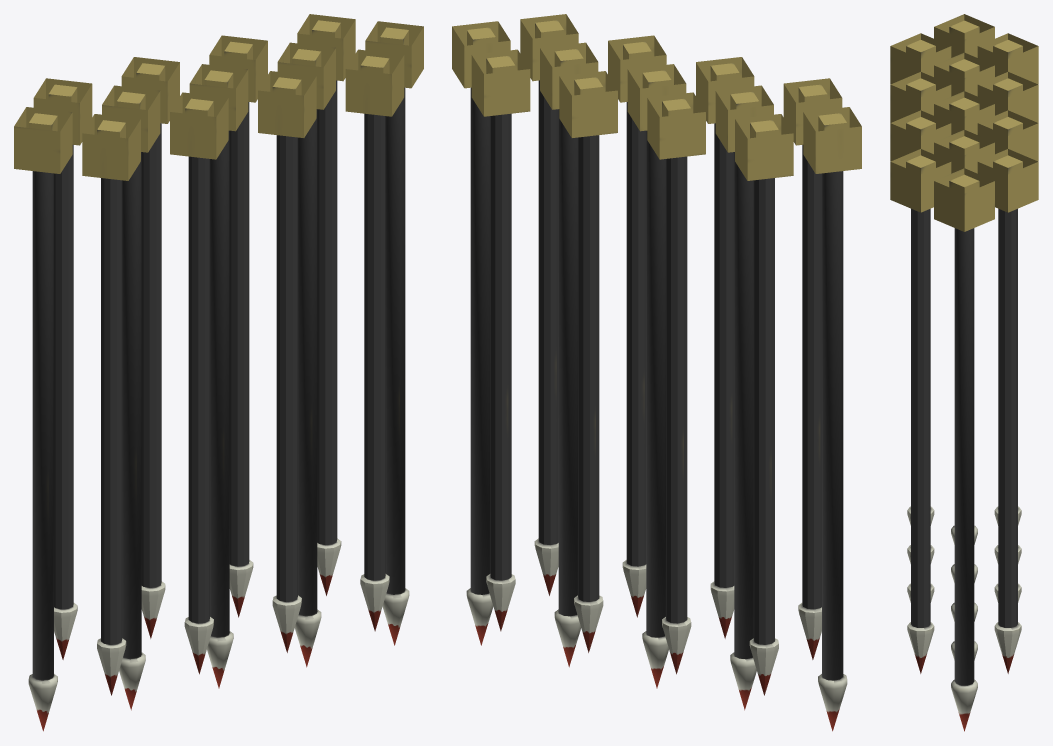
The model's file is spikes 3.fbx.
The picture shows the model from 3 angles, left to right: view 1: azimuth 30°, elevation 25°; view 2: azimuth 150°, elevation 25°; view 3: azimuth 270°, elevation 25°; orthographic projection. The views are drawn at different scales.
Parts seen in each view (by area): view 1: Spear, Spear.002, Spear.001, Spear Holes 2.001, Spear Holes, Spear Holes 2; view 2: Spear, Spear.001, Spear.002, Spear Holes 2, Spear Holes, Spear Holes 2.001; view 3: Spear, Spear Holes, Spear.001, Spear.002, Spear Holes 2, Spear Holes 2.001.
Boxes of the visible parts, x1,y1,x2,y2 form: Spear: [28, 87, 409, 731]; Spear.002: [97, 113, 389, 695]; Spear.001: [54, 80, 341, 659]; Spear Holes 2.001: [82, 49, 404, 180]; Spear Holes: [14, 21, 423, 173]; Spear Holes 2: [33, 14, 355, 145]; Spear: [466, 87, 847, 731]; Spear.001: [486, 113, 778, 695]; Spear.002: [534, 80, 821, 659]; Spear Holes 2: [471, 49, 793, 180]; Spear Holes: [452, 21, 861, 173]; Spear Holes 2.001: [520, 14, 842, 145]; Spear: [951, 228, 977, 731]; Spear Holes: [934, 14, 994, 231]; Spear.001: [994, 208, 1021, 673]; Spear.002: [907, 208, 934, 673]; Spear Holes 2: [977, 33, 1038, 212]; Spear Holes 2.001: [890, 33, 951, 212].
Bounding box in the file's own units: 633 × 905 × 220.
1 material, 1 textured.
